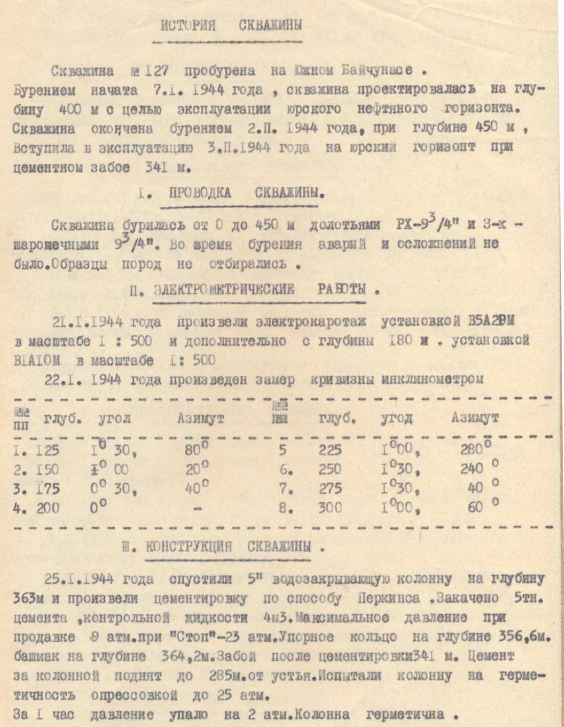Borderless: (5, 395, 556, 530)
